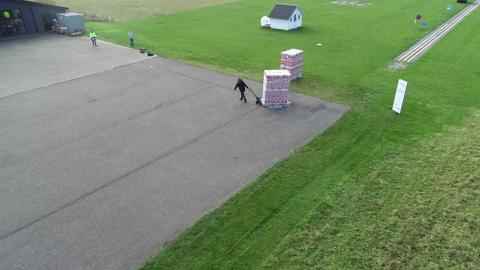RockwoolPallet: (279, 46, 304, 81)
